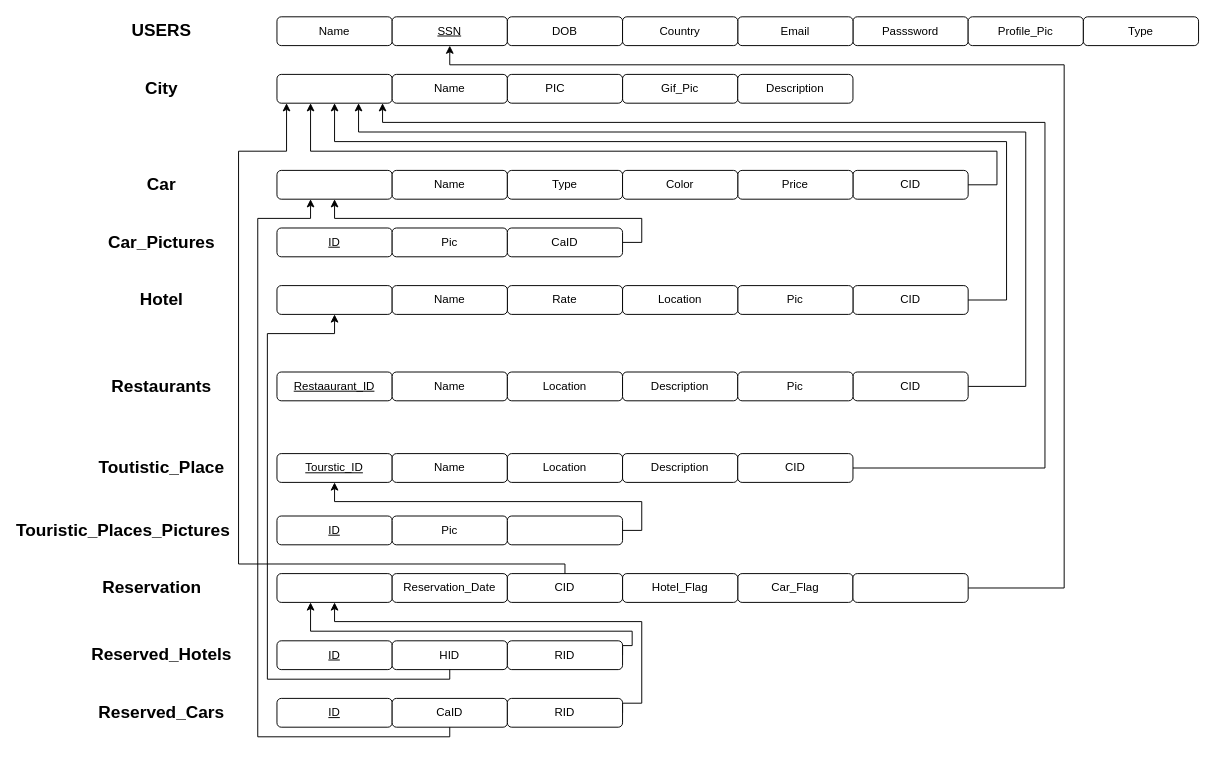
Some shapes in this 1215 by 761 pixel diagram are drawn without their labels. The shapes that lost their labels are listed below. From the top down, each one's box as (x1, y1, x2, y2) in pixels, then its label:
(276, 73, 392, 103): City_ID
(276, 169, 392, 199): Car_ID
(276, 285, 392, 314): Hotel_ID
(506, 515, 623, 545): TID
(276, 573, 392, 602): Reservation_ID
(852, 573, 968, 602): USSN
